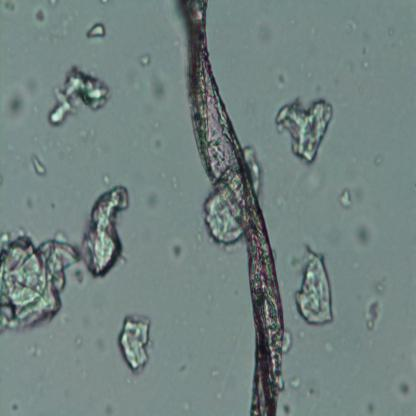Background material: (0, 222, 84, 337), (80, 180, 132, 281), (275, 90, 336, 170), (42, 64, 112, 128), (294, 244, 334, 329), (201, 191, 247, 247), (115, 312, 154, 378), (364, 280, 390, 335), (0, 80, 27, 124), (145, 74, 175, 109), (352, 216, 378, 254), (138, 186, 161, 214), (394, 376, 414, 404), (30, 151, 50, 178), (357, 387, 377, 414), (28, 4, 56, 23), (84, 22, 109, 41), (26, 335, 42, 362), (135, 50, 156, 70), (169, 235, 184, 263), (284, 369, 302, 389), (339, 188, 353, 211), (322, 341, 337, 356), (2, 0, 18, 13), (151, 135, 162, 150), (358, 59, 371, 71)
Cotton: (178, 0, 287, 414)
